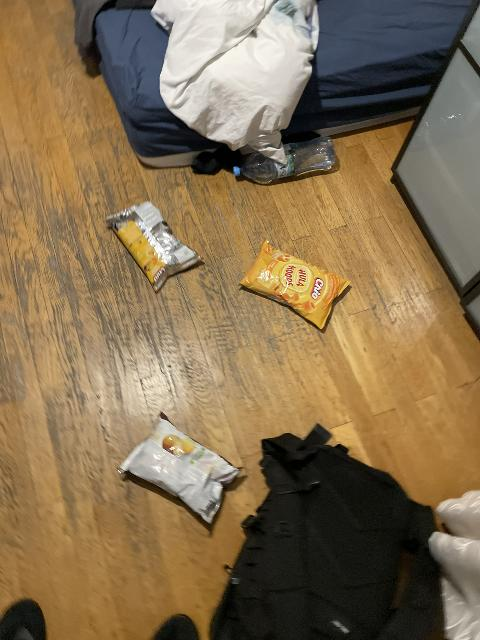Chio Cascaval 125g: (105, 202, 205, 293)
Chio Hula Hoops Cheese 70g: (239, 238, 351, 328)
Lays Beef Grilled Ribs 125g: (118, 409, 240, 522)
